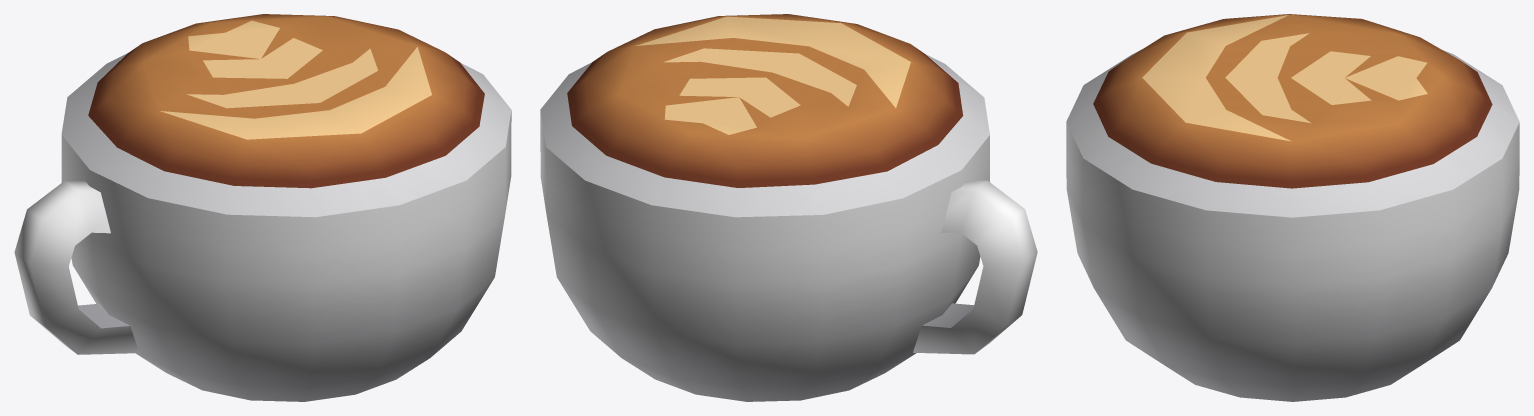
Rendered from m_Cup02_Coffee08.fbx.
3 views of the same model, side by side, from view 1: azimuth 30°, elevation 25°; view 2: azimuth 150°, elevation 25°; view 3: azimuth 270°, elevation 25° (orthographic).
Parts seen in each view (by area): view 1: m_Cup02_Coffee08; view 2: m_Cup02_Coffee08; view 3: m_Cup02_Coffee08.
Boxes of the visible parts, x1,y1,x2,y2 form: m_Cup02_Coffee08: (14,14,511,401); m_Cup02_Coffee08: (540,14,1037,401); m_Cup02_Coffee08: (1066,14,1519,401).
Size of the model in its own units: 14.87 by 8.19 by 12.68.
